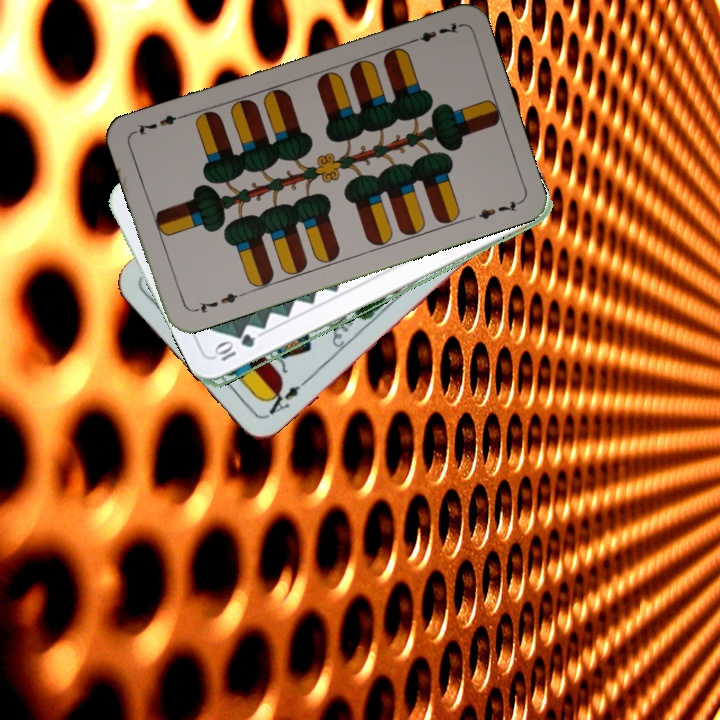E7: (188, 288, 246, 316), (405, 18, 463, 46)
EA: (260, 377, 309, 421)
G10: (211, 332, 258, 364)
